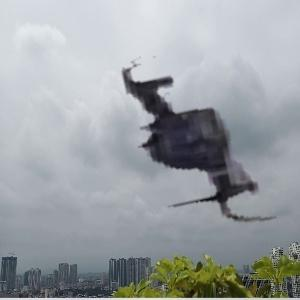drone: (88, 38, 293, 243)
